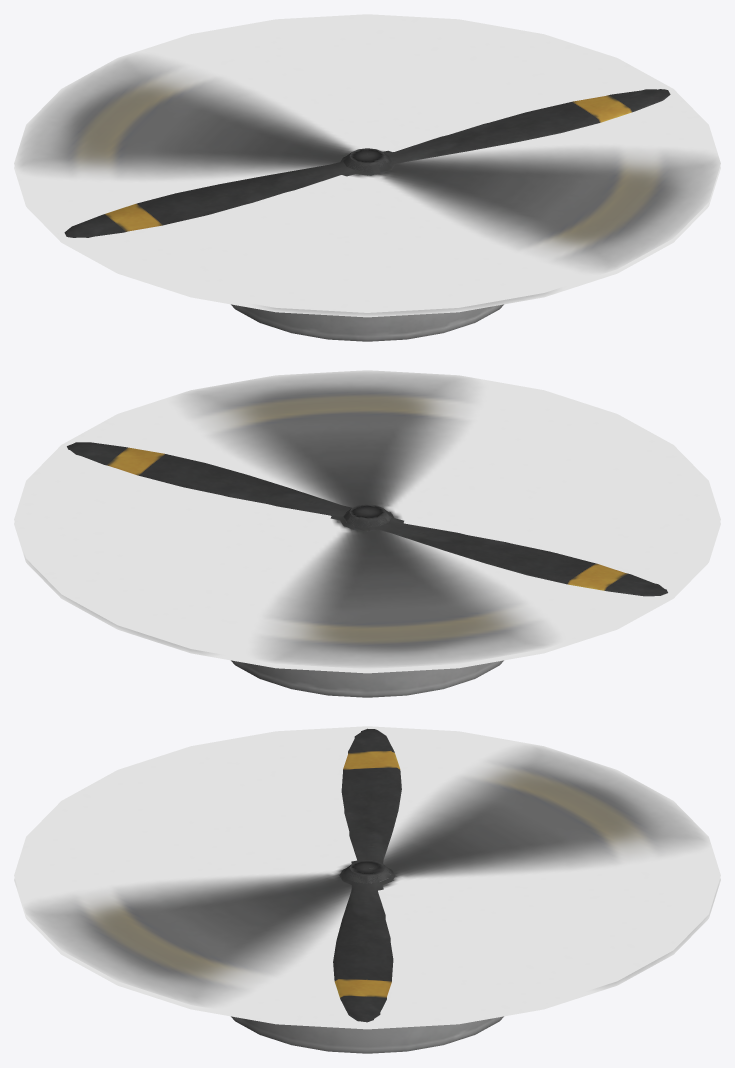
Rendered from wd_prop_engine_s0_1.fbx.
3 views of the same model, one above another, from view 1: azimuth 30°, elevation 25°; view 2: azimuth 150°, elevation 25°; view 3: azimuth 270°, elevation 25° (orthographic).
Parts seen in each view (by area): view 1: high, low, main; view 2: high, low, main; view 3: high, low, main.
Boxes of the visible parts, left/top/right/bottom form: high: left=14, top=14, right=720, bottom=317; low: left=64, top=89, right=670, bottom=237; main: left=231, top=304, right=503, bottom=341; high: left=14, top=370, right=720, bottom=673; low: left=67, top=442, right=667, bottom=596; main: left=231, top=660, right=503, bottom=697; high: left=14, top=726, right=720, bottom=1029; low: left=333, top=728, right=401, bottom=1022; main: left=231, top=1016, right=503, bottom=1053.
Bounding box in the file's own units: 1.45 × 0.325 × 1.45.
Materials: 2 (2 with a texture image).
